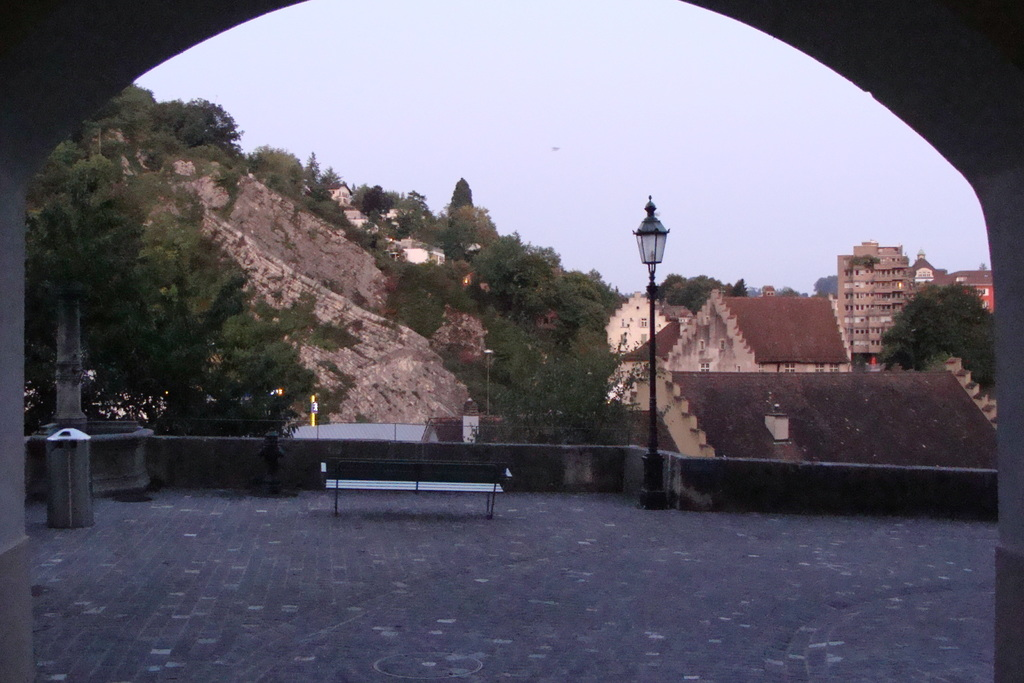Tree: (19, 78, 645, 451), (871, 276, 997, 392), (653, 267, 748, 313), (443, 172, 476, 221)
